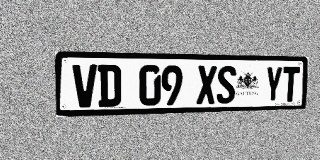0: (139, 65, 161, 106)
9: (161, 65, 183, 105)
D: (98, 64, 121, 107)
S: (216, 66, 236, 104)
T: (282, 66, 300, 102)
V: (72, 64, 97, 108)
X: (196, 66, 217, 104)
Y: (264, 66, 283, 103)
